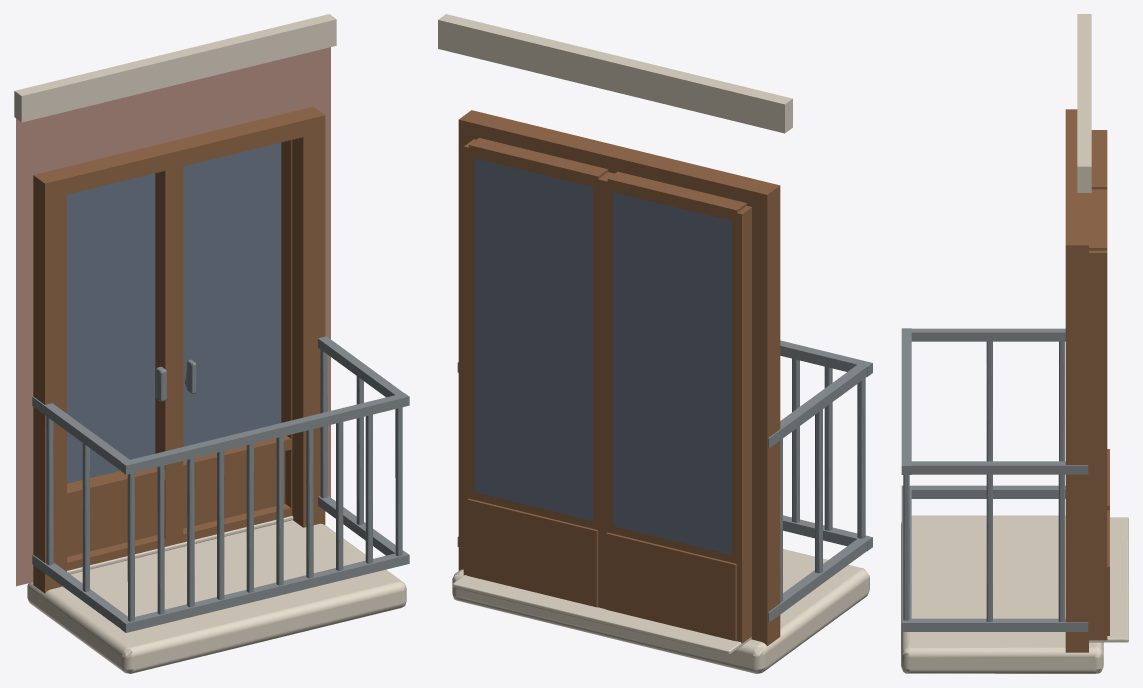
The model's file is Balcony.glb.
3 views of the same model, side by side, from view 1: azimuth 30°, elevation 25°; view 2: azimuth 150°, elevation 25°; view 3: azimuth 270°, elevation 25° (orthographic). The views are drawn at different scales.
Parts seen in each view (by area): view 1: PBK_Continuous_Frame_Brick_Balcony.001, PBK_balcony_door_glass.002, PBK_Brick_Balcony_Exterior_Surface.001, PBK_balcony_slab.001, PBK_balcony_door_glass.001, PBK_floor_band.048, PBK_door_stile.009, PBK_front_rail.004, PBK_door_kick_panel.001, PBK_door_kick_panel.002, PBK_front_rail.001, PBK_door_stile.011 (+24 smaller); view 2: PBK_balcony_door_glass.001, PBK_balcony_door_glass.002, PBK_Continuous_Frame_Brick_Balcony.001, PBK_floor_band.048, PBK_door_kick_panel.002, PBK_door_kick_panel.001, PBK_balcony_slab.001, PBK_door_stile.008, PBK_door_stile.011, PBK_door_threshold.002, PBK_door_stile.009, PBK_door_stile.010 (+12 smaller); view 3: PBK_balcony_slab.001, PBK_Continuous_Frame_Brick_Balcony.001, PBK_door_stile.011, PBK_floor_band.048, PBK_door_threshold.002, PBK_side_rail.007, PBK_side_rail.005, PBK_side_rail.006, PBK_side_rail.004, PBK_front_rail.004, PBK_door_rail.017, PBK_side_baluster.007 (+7 smaller).
Boxes of the visible parts, box(x1,y1,x2,y2) form: PBK_Continuous_Frame_Brick_Balcony.001: box(33, 106, 325, 593); PBK_balcony_door_glass.002: box(183, 142, 281, 446); PBK_Brick_Balcony_Exterior_Surface.001: box(16, 47, 330, 586); PBK_balcony_slab.001: box(27, 520, 406, 673); PBK_balcony_door_glass.001: box(67, 173, 155, 483); PBK_floor_band.048: box(14, 14, 336, 122); PBK_door_stile.009: box(155, 168, 174, 545); PBK_front_rail.004: box(121, 393, 409, 474); PBK_door_kick_panel.001: box(67, 482, 157, 556); PBK_door_kick_panel.002: box(183, 451, 285, 528); PBK_front_rail.001: box(121, 551, 409, 632); PBK_door_stile.011: box(281, 140, 292, 515); PBK_balcony_door_glass.001: box(613, 192, 731, 554); PBK_balcony_door_glass.002: box(474, 158, 592, 520); PBK_Continuous_Frame_Brick_Balcony.001: box(458, 110, 780, 646); PBK_floor_band.048: box(438, 14, 792, 133); PBK_door_kick_panel.002: box(467, 498, 598, 607); PBK_door_kick_panel.001: box(606, 532, 736, 641); PBK_balcony_slab.001: box(452, 549, 869, 673); PBK_door_stile.008: box(731, 206, 751, 643); PBK_door_stile.011: box(463, 139, 475, 575); PBK_door_threshold.002: box(452, 575, 751, 654); PBK_door_stile.009: box(602, 173, 614, 609); PBK_door_stile.010: box(593, 172, 612, 608); PBK_balcony_slab.001: box(901, 515, 1103, 673); PBK_Continuous_Frame_Brick_Balcony.001: box(1065, 109, 1088, 652); PBK_door_stile.011: box(1089, 250, 1107, 640); PBK_floor_band.048: box(1077, 14, 1091, 192); PBK_door_threshold.002: box(1089, 517, 1128, 642); PBK_side_rail.007: box(911, 461, 1088, 474); PBK_side_rail.005: box(902, 618, 1088, 631); PBK_side_rail.006: box(902, 328, 1065, 341); PBK_side_rail.004: box(902, 485, 1065, 498); PBK_front_rail.004: box(901, 328, 911, 474); PBK_door_rail.017: box(1089, 191, 1107, 250); PBK_side_baluster.007: box(986, 474, 992, 621).
Size of the model in its own units: 2 by 3.16 by 1.26.
